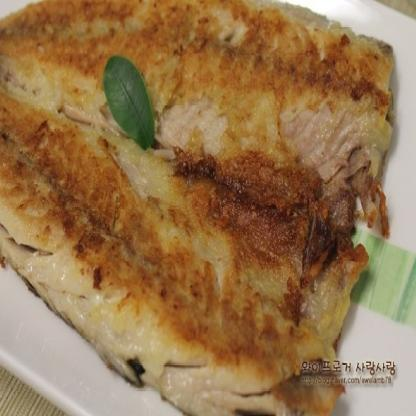Peixe: (0, 0, 398, 416)
